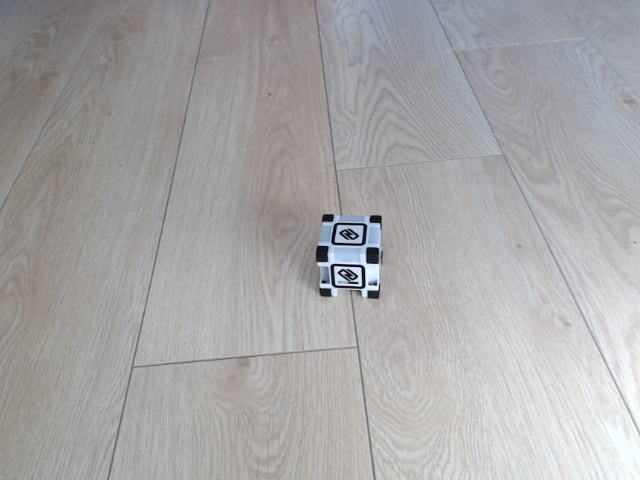block: (314, 211, 387, 302)
